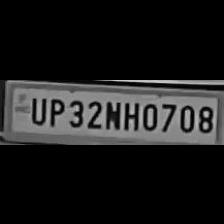0: (138, 99, 158, 131), (176, 100, 194, 132)
2: (84, 96, 103, 128)
3: (65, 94, 83, 126)
7: (157, 99, 175, 133)
8: (194, 100, 214, 134)
H: (121, 97, 139, 130)
N: (104, 96, 120, 130)
P: (46, 93, 64, 126)
U: (26, 94, 46, 124)
